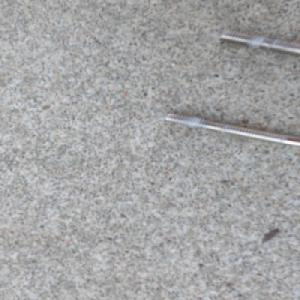ClampPart: (162, 28, 300, 148)
